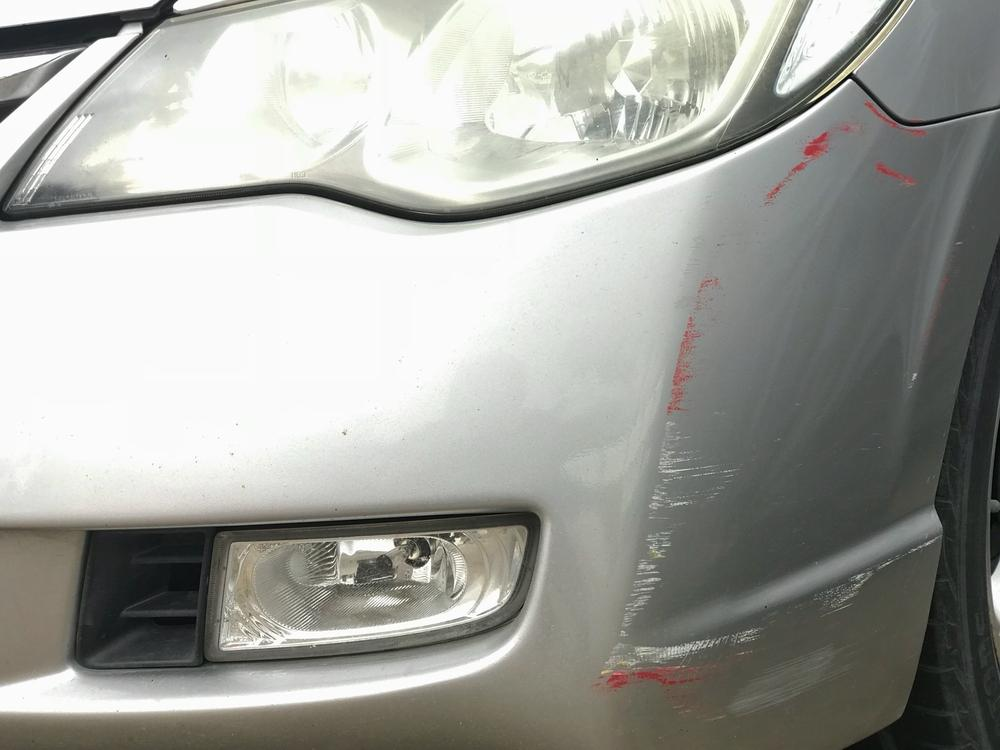scratch: (594, 99, 943, 726)
